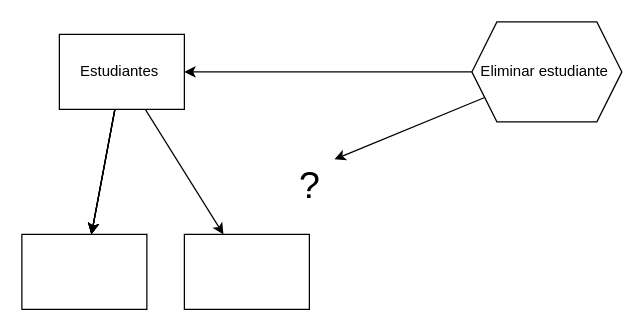
The diagram is 644 pixels wide and 331 high, and some of its shapes have lost their labels. The shapes that lost their labels are listed below. From the top down, each one's box as (x1, y1, x2, y2) in pixels, then its label:
(21, 233, 147, 309): Avances
(183, 233, 309, 309): Avance2
